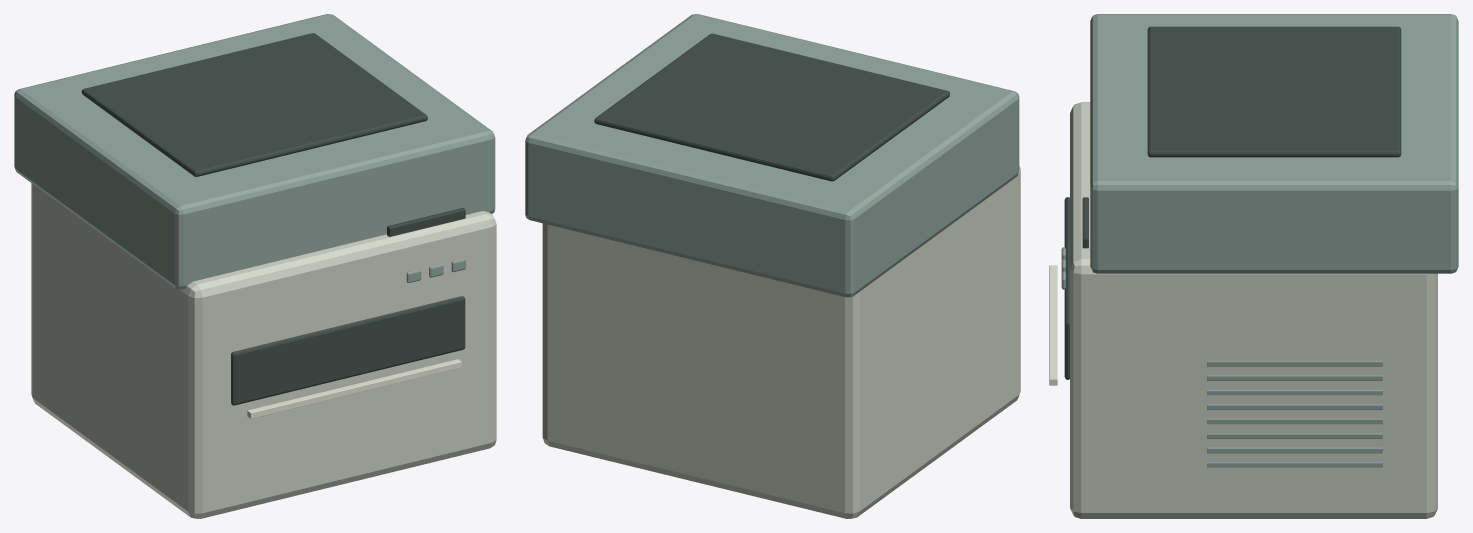
The model's file is office-printer-editable.glb.
3 renders of one model, left to right at view 1: azimuth 30°, elevation 25°; view 2: azimuth 150°, elevation 25°; view 3: azimuth 270°, elevation 25°, orthographic. The views are drawn at different scales.
Parts seen in each view (by area): view 1: printer body, scanner lid, scanner glass, output opening, paper output, control display; view 2: printer body, scanner lid, scanner glass; view 3: printer body, scanner lid, scanner glass, side vent.001, side vent.003, side vent.005, side vent.007, paper output, side vent, side vent.002, side vent.004, side vent.006 (+1 smaller).
Part boxes in pixels (left/top/right/bottom): printer body: left=31, top=183, right=496, bottom=518; scanner lid: left=14, top=14, right=495, bottom=289; scanner glass: left=81, top=33, right=427, bottom=176; output opening: left=231, top=296, right=465, bottom=405; paper output: left=247, top=359, right=461, bottom=418; control display: left=387, top=208, right=465, bottom=236; printer body: left=542, top=166, right=1020, bottom=518; scanner lid: left=525, top=14, right=1019, bottom=297; scanner glass: left=594, top=33, right=949, bottom=181; printer body: left=1070, top=102, right=1437, bottom=518; scanner lid: left=1090, top=14, right=1458, bottom=273; scanner glass: left=1147, top=26, right=1401, bottom=157; side vent.001: left=1207, top=447, right=1382, bottom=453; side vent.003: left=1207, top=418, right=1382, bottom=424; side vent.005: left=1207, top=389, right=1382, bottom=395; side vent.007: left=1207, top=360, right=1382, bottom=366; paper output: left=1049, top=265, right=1057, bottom=385; side vent: left=1207, top=462, right=1382, bottom=467; side vent.002: left=1207, top=433, right=1382, bottom=438; side vent.004: left=1207, top=404, right=1382, bottom=409; side vent.006: left=1207, top=375, right=1382, bottom=380.
Size of the model in its own units: 1 by 0.949 by 1.
